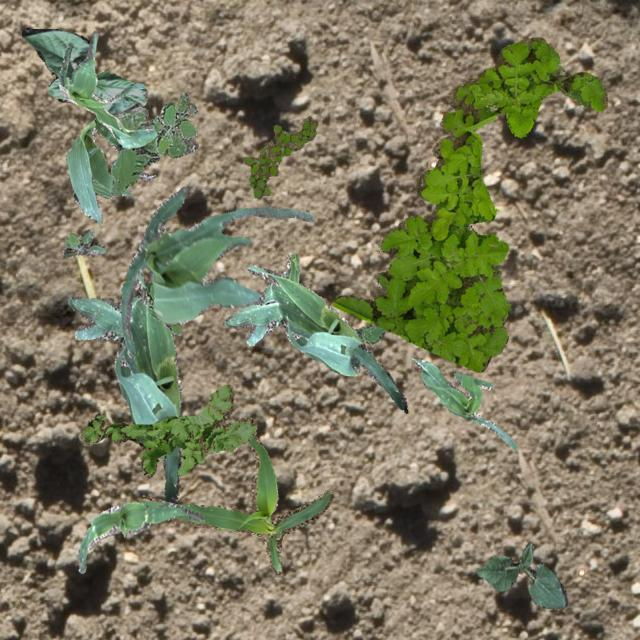crop: (120, 185, 314, 358), (224, 252, 406, 412), (140, 434, 332, 574), (68, 272, 180, 502), (58, 29, 156, 148), (20, 27, 146, 114), (65, 114, 153, 224), (414, 358, 516, 448), (77, 500, 203, 572), (474, 540, 566, 608)
weed: (332, 36, 606, 372), (80, 384, 256, 476), (110, 91, 198, 196), (242, 116, 316, 198), (152, 100, 196, 154), (144, 282, 180, 334), (62, 228, 105, 258), (353, 324, 383, 344)
